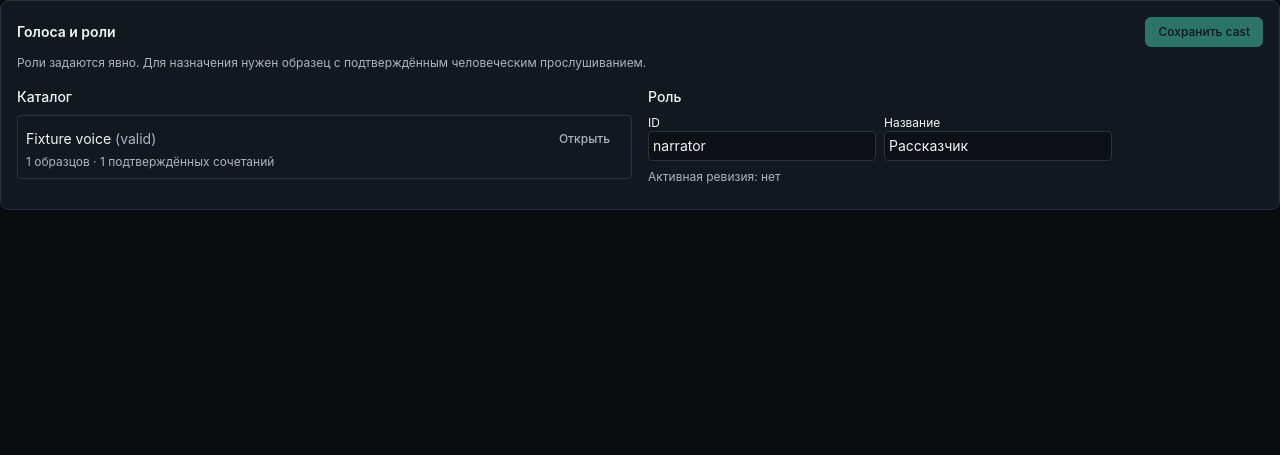
Test: retains the same request identity when a save response is uncertain
Click the button "Открыть" at {"x": 584, "y": 139}, box x1=546 y1=124 x2=623 y2=154
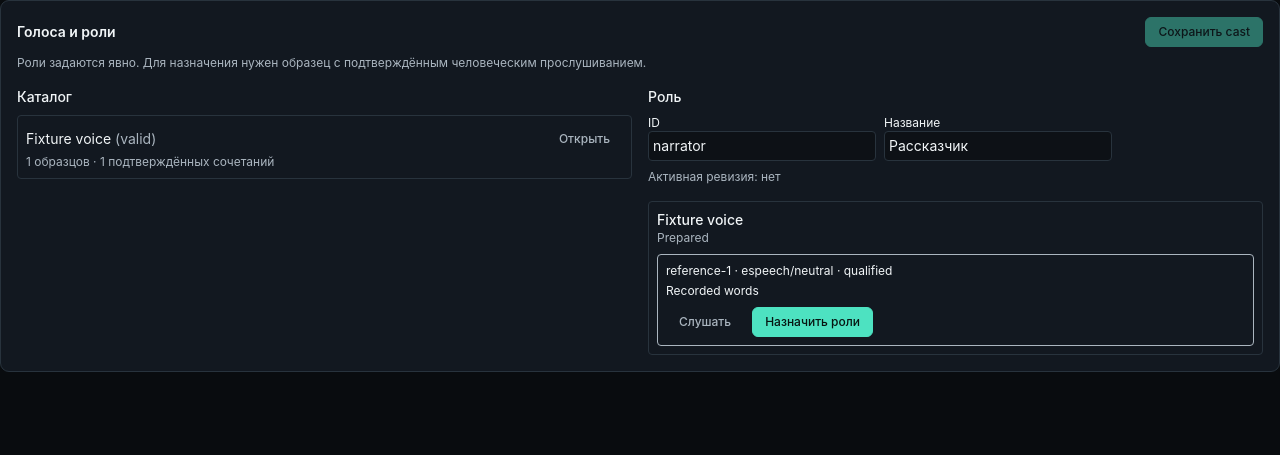
Click the button "Назначить роли" at {"x": 813, "y": 322}, box x1=752 y1=307 x2=873 y2=337
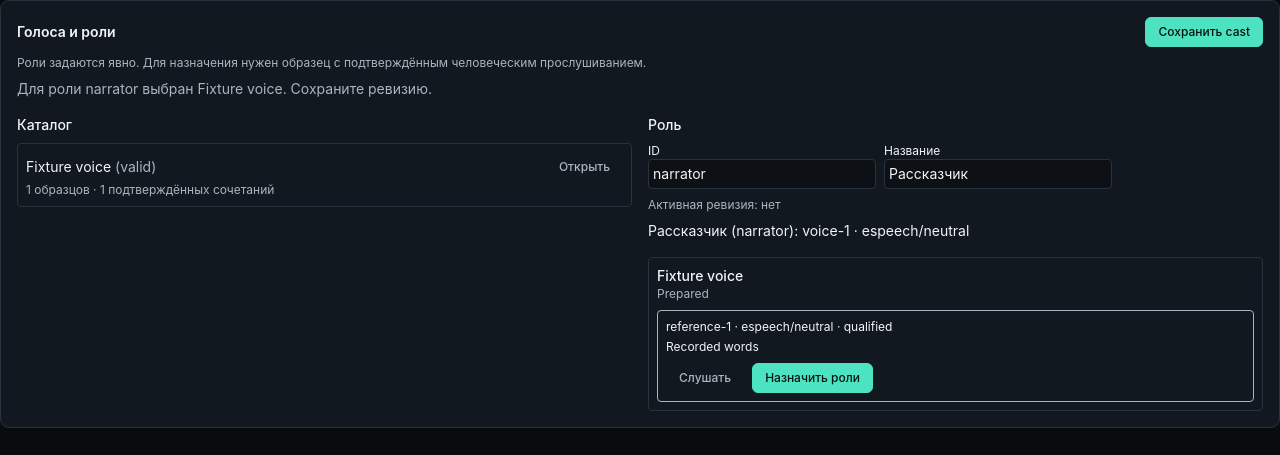
Now the text "Для роли narrator выбран Fixture voice. Сохраните ревизию." is shown, box x1=17 y1=80 x2=432 y2=97
Click the button "Сохранить cast" at {"x": 1204, "y": 32}, box x1=1145 y1=17 x2=1263 y2=47
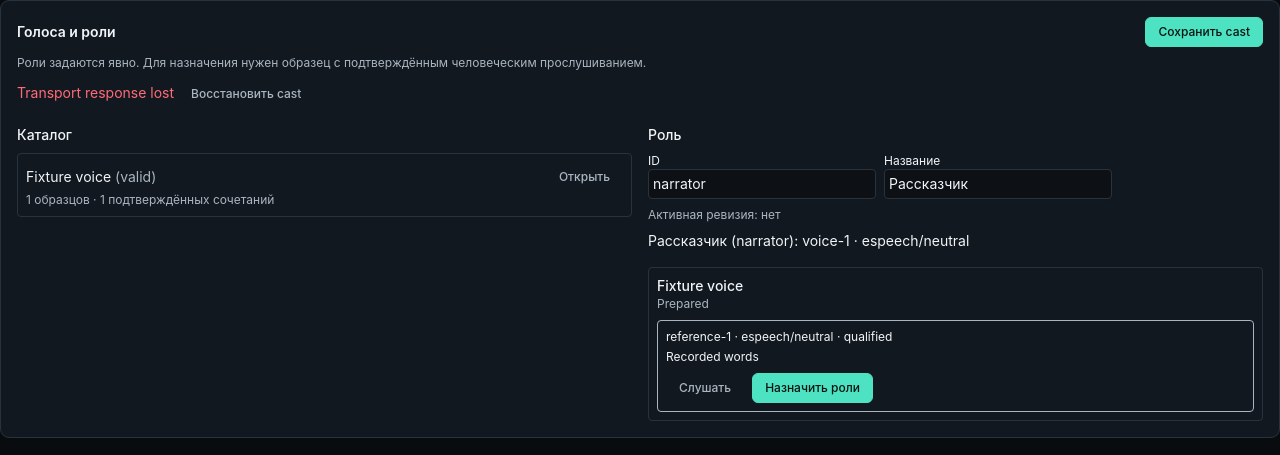
Now the text "Transport response lost" is shown, box x1=17 y1=84 x2=174 y2=101
Click the button "Сохранить cast" at {"x": 1204, "y": 32}, box x1=1145 y1=17 x2=1263 y2=47
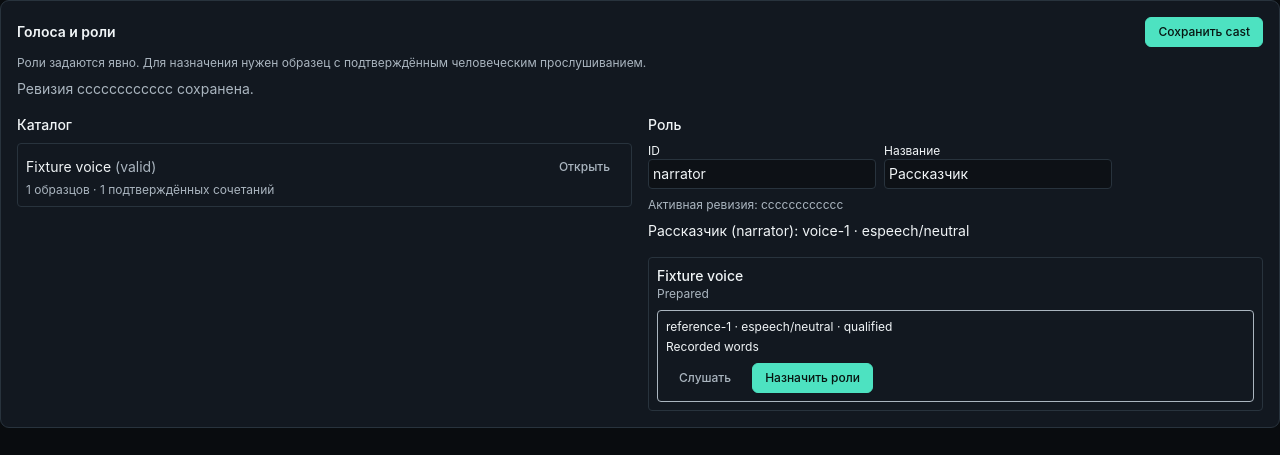
Now the text "Ревизия cccccccccccc сохранена." is shown, box x1=17 y1=80 x2=254 y2=97
